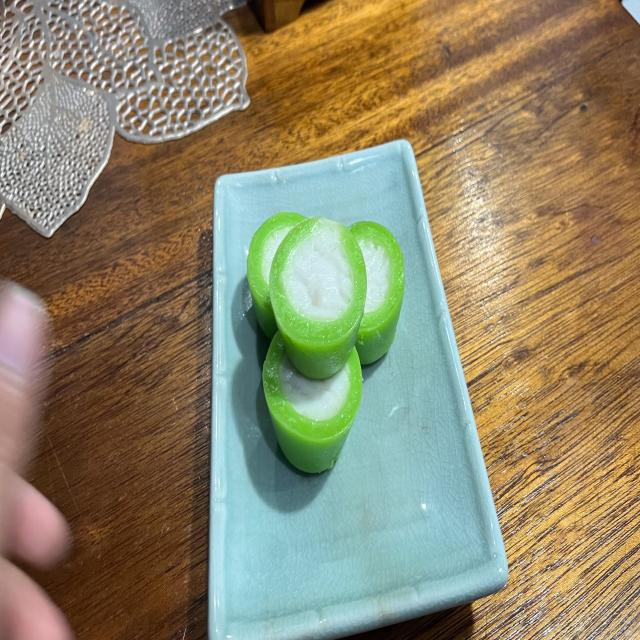nona-manis: (269, 218, 366, 380), (262, 331, 362, 473), (350, 222, 405, 364), (248, 213, 305, 340)
